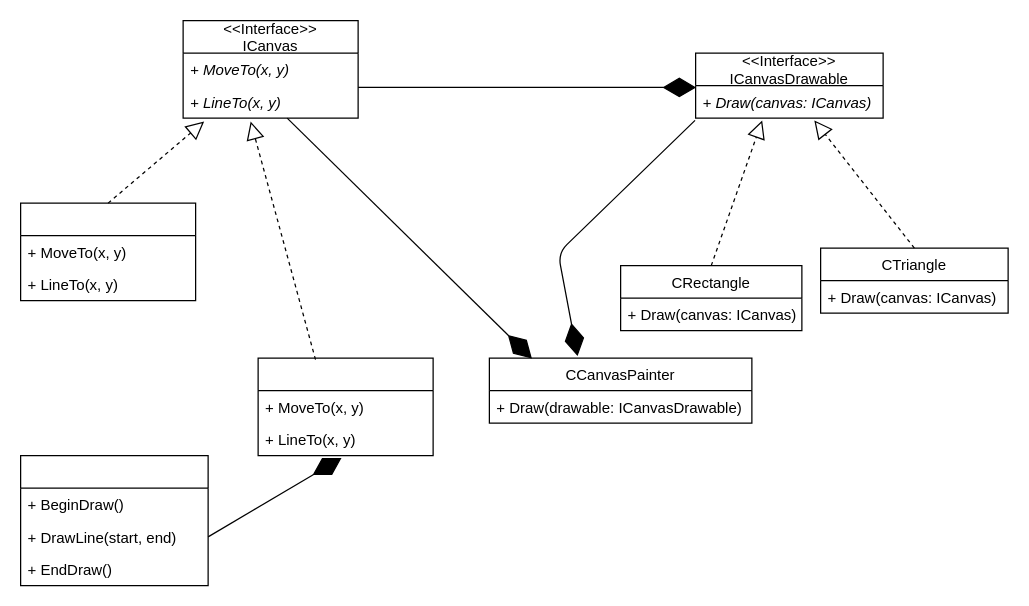
The diagram is 1029 pixels wide and 606 high, and some of its shapes have lost their labels. The shapes that lost their labels are listed below. From the top down, each one's box as (x1, y1, x2, y2) in pixels, then its label:
(19, 202, 196, 301): CCanvas
(257, 357, 433, 456): CGraphicsAdapter
(19, 454, 208, 586): CModernGraphicsRenderer
